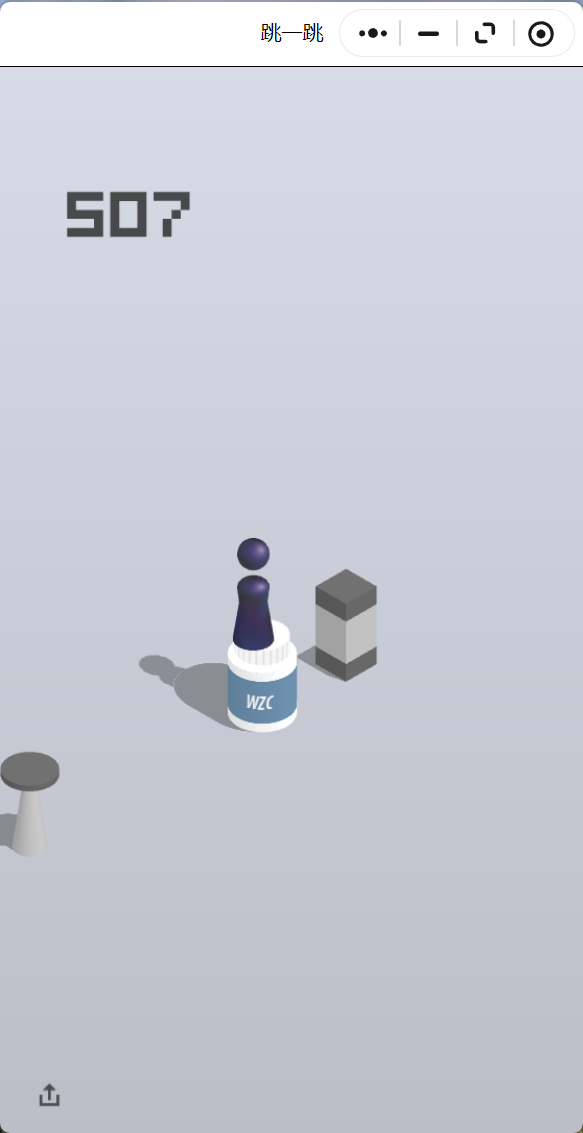piece: (237, 537, 269, 644)
target: (316, 568, 377, 603)
